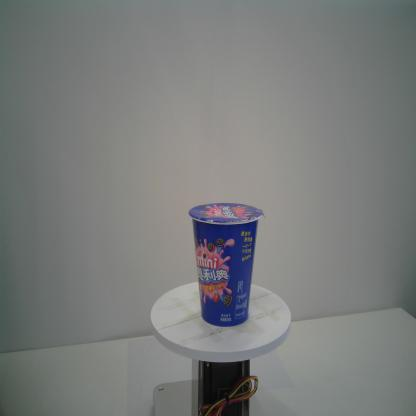Dessert: (188, 202, 266, 329)
